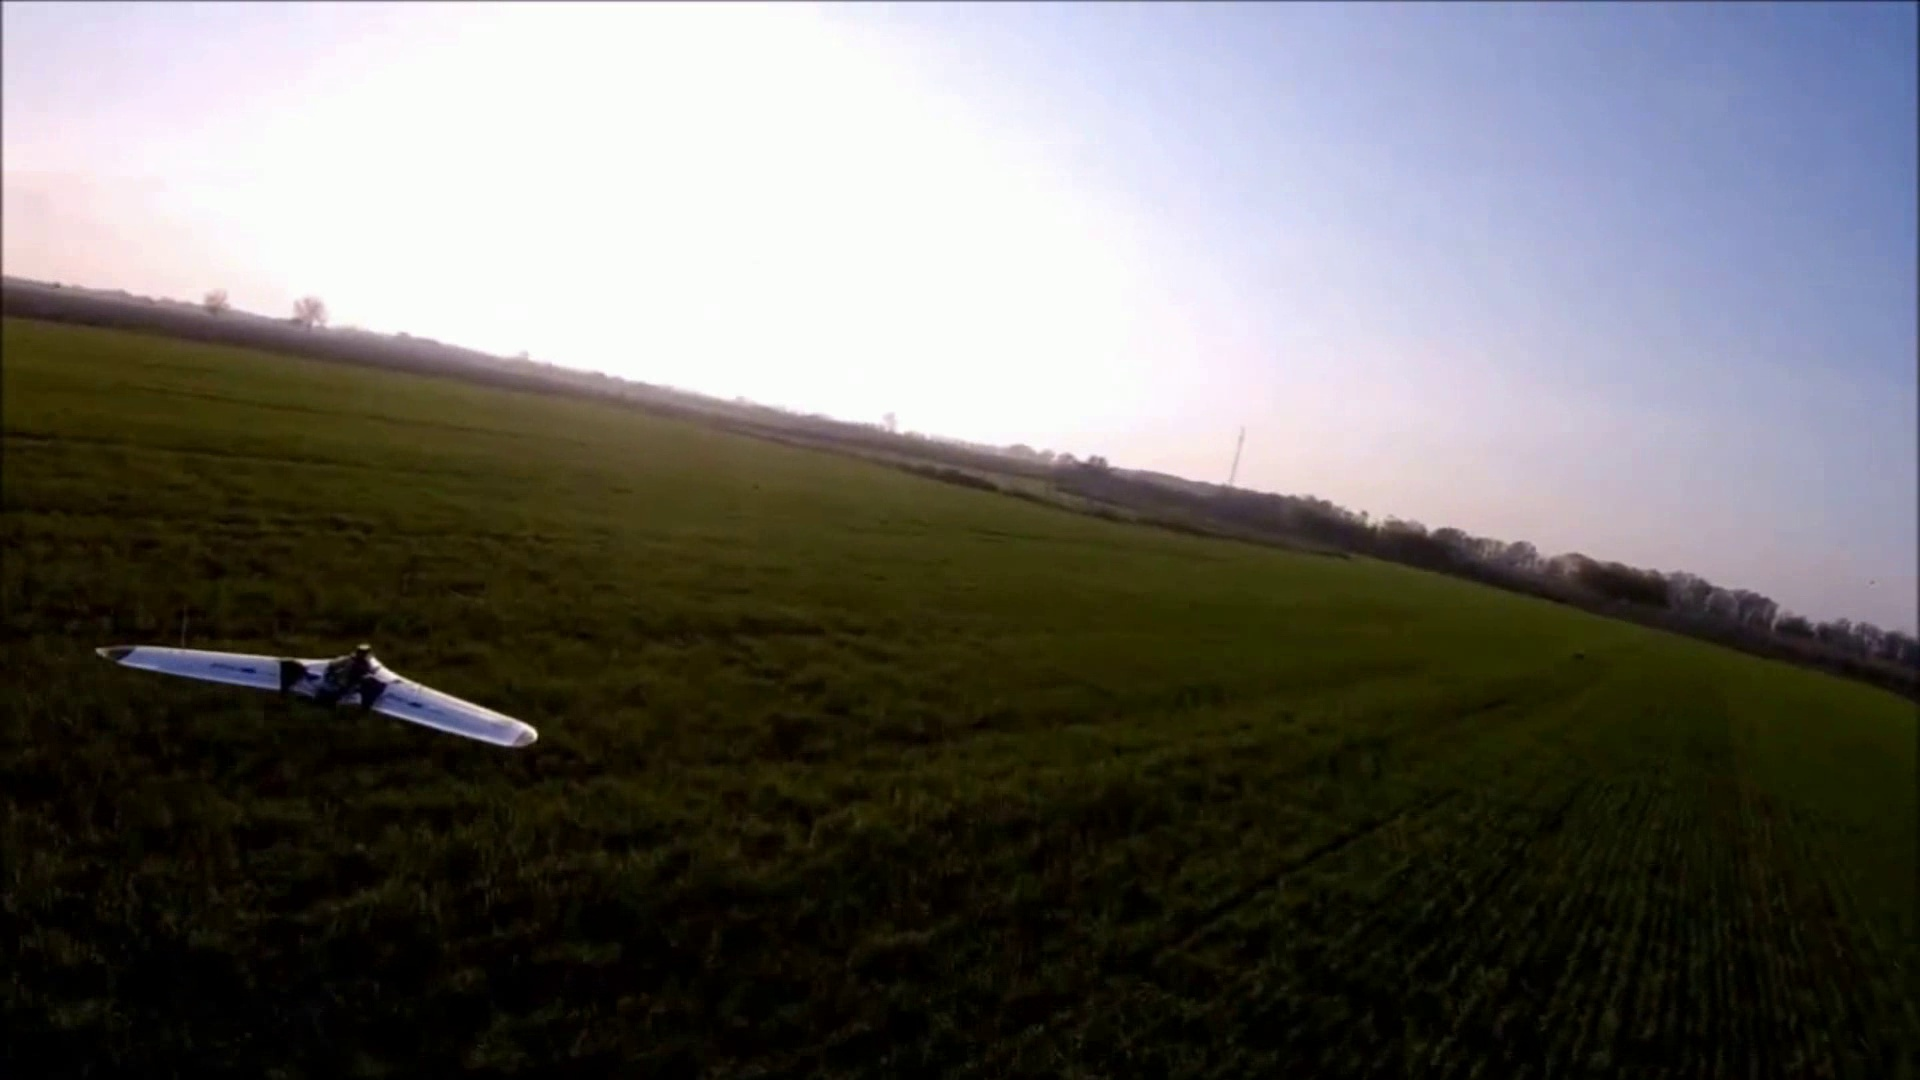airplane: (98, 644, 537, 752)
